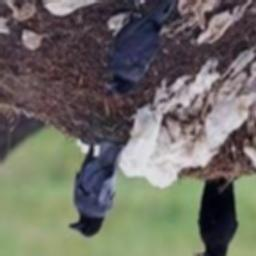Crow: (103, 0, 178, 96), (66, 140, 124, 238), (192, 178, 237, 256)
